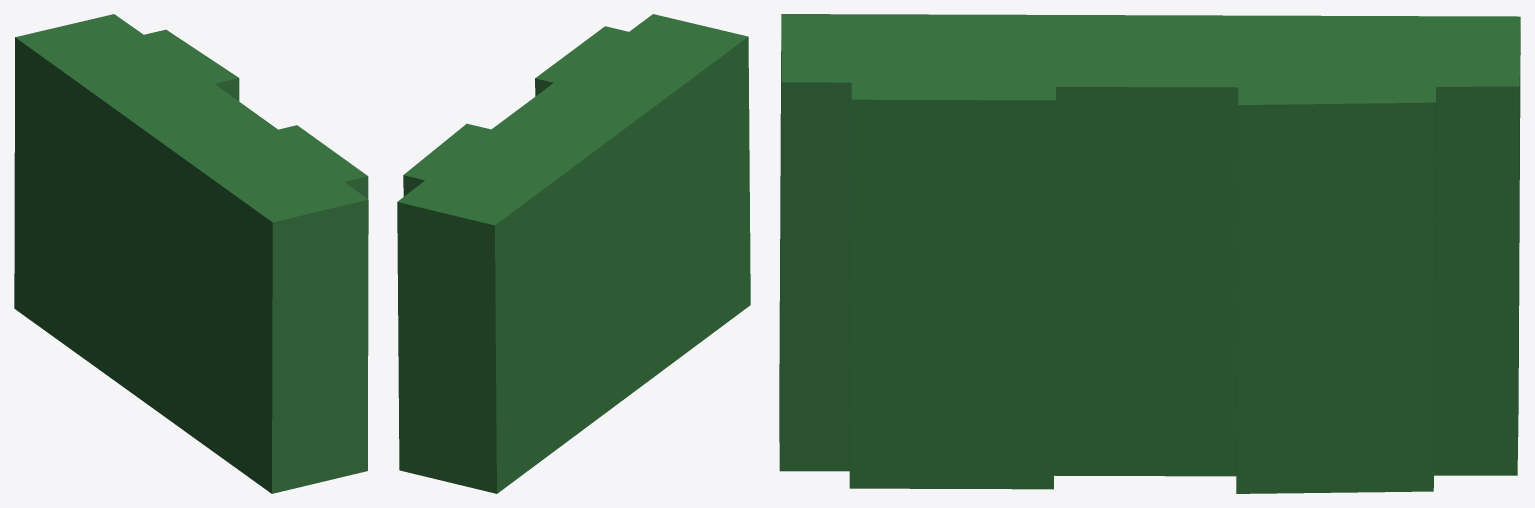
File: Building_5.fbx
3 renders of one model, left to right at view 1: azimuth 30°, elevation 25°; view 2: azimuth 150°, elevation 25°; view 3: azimuth 270°, elevation 25°, orthographic. The views are drawn at different scales.
Parts seen in each view (by area): view 1: building5; view 2: building5; view 3: building5.
Boxes of the visible parts, x1=… form: building5: x1=14, y1=14, x2=368, y2=493; building5: x1=397, y1=14, x2=750, y2=493; building5: x1=779, y1=14, x2=1520, y2=493.
Bounding box in the file's own units: 52.67 × 108 × 184.
